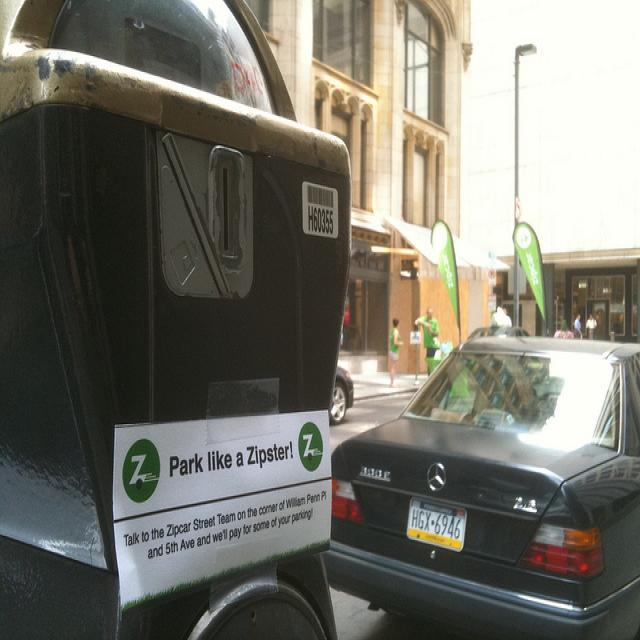Vehicle: (327, 334, 640, 638), (330, 363, 356, 424), (467, 327, 531, 341)
